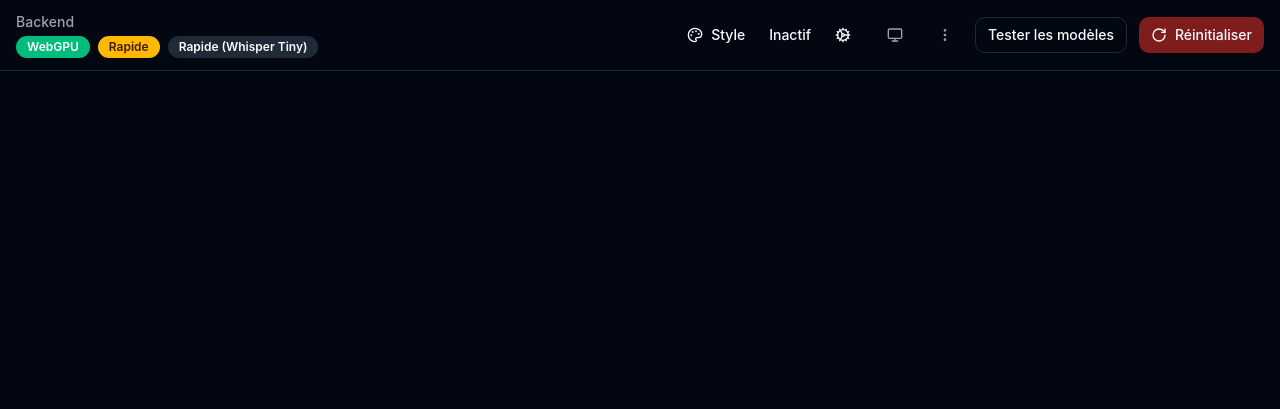
Test: Topbar › opens the telemetry console panel and renders buffered logs
The width and height of the screenshot is (1280, 409).
Step 1. Click the button named "Afficher les logs console" → (895, 35), box [875,15,915,55]
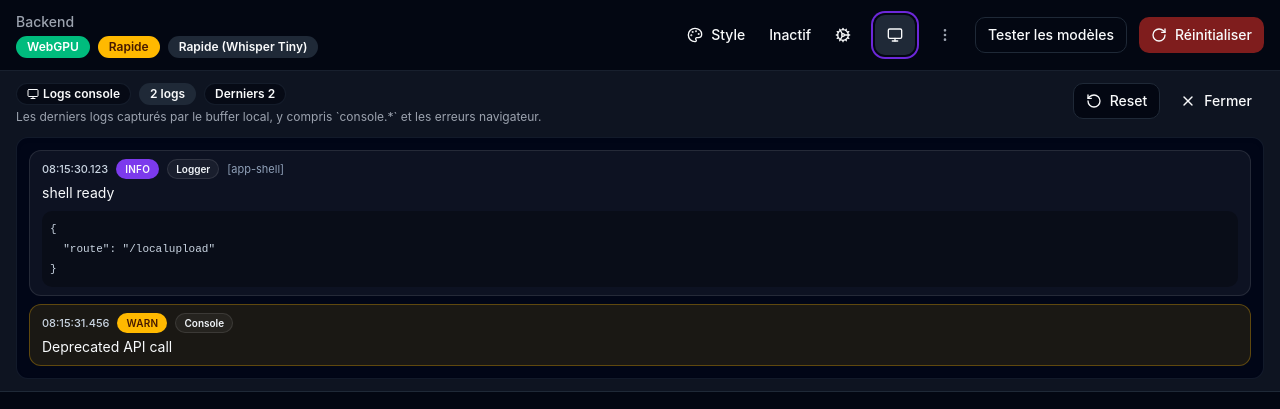
Check: the element "Logs console" is shown
Check: the text "shell ready" is shown, box [42,184,114,201]
Check: the text "Deprecated API call" is shown, box [42,338,172,355]
